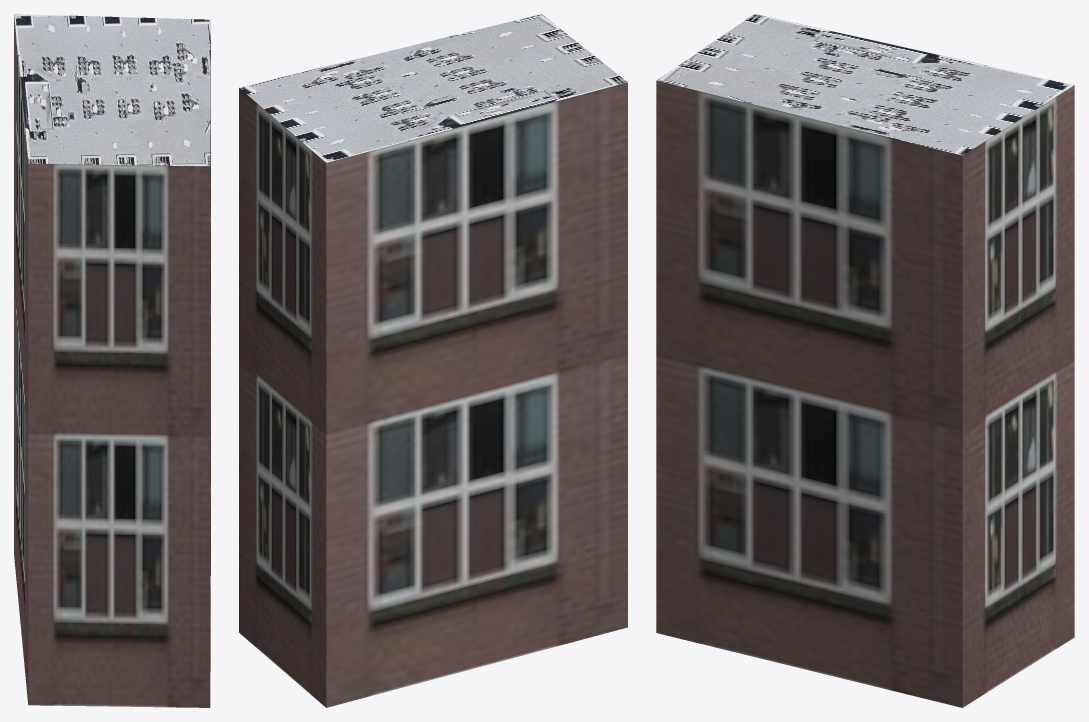
Rendered from ResTex__609.fbx.
3 views of the same model, side by side, from view 1: azimuth 30°, elevation 25°; view 2: azimuth 150°, elevation 25°; view 3: azimuth 270°, elevation 25° (orthographic).
Parts seen in each view (by area): view 1: CityEngineMaterial_12_m, CityEngineMaterial_m; view 2: CityEngineMaterial_12_m, CityEngineMaterial_m; view 3: CityEngineMaterial_12_m, CityEngineMaterial_m.
Part boxes in pixels (bbox=[...]): CityEngineMaterial_12_m: bbox=[14, 15, 210, 707]; CityEngineMaterial_m: bbox=[14, 14, 210, 166]; CityEngineMaterial_12_m: bbox=[239, 82, 627, 707]; CityEngineMaterial_m: bbox=[239, 14, 627, 162]; CityEngineMaterial_12_m: bbox=[656, 80, 1074, 707]; CityEngineMaterial_m: bbox=[656, 14, 1074, 155].
Bounding box in the file's own units: 3.3 × 6 × 4.12.
Materials: 2 (2 with a texture image).
